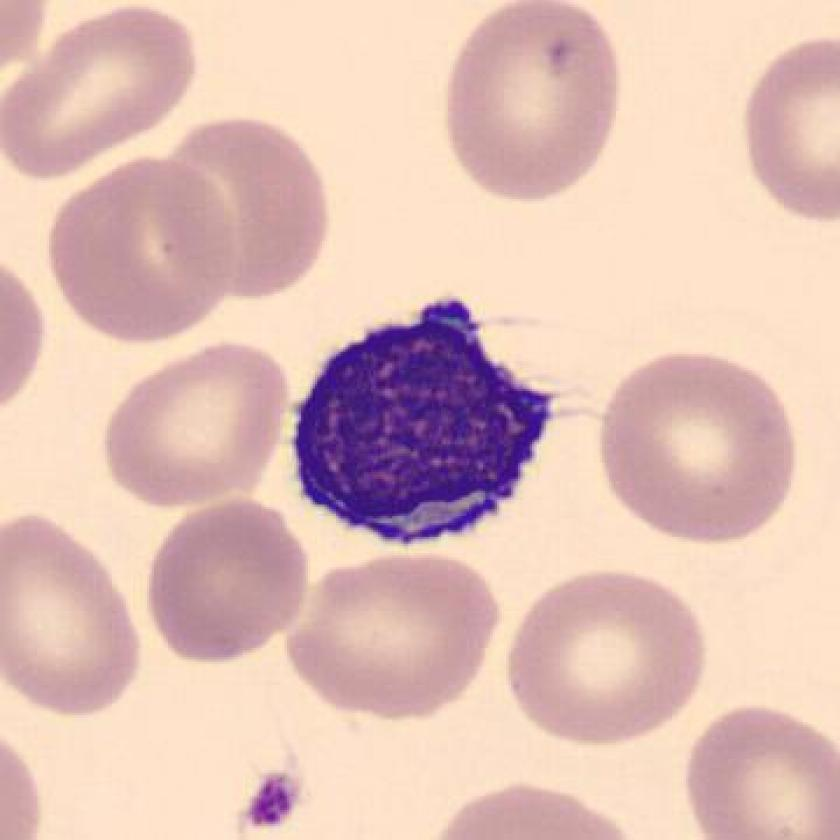lymphocyte: (277, 288, 571, 570)
